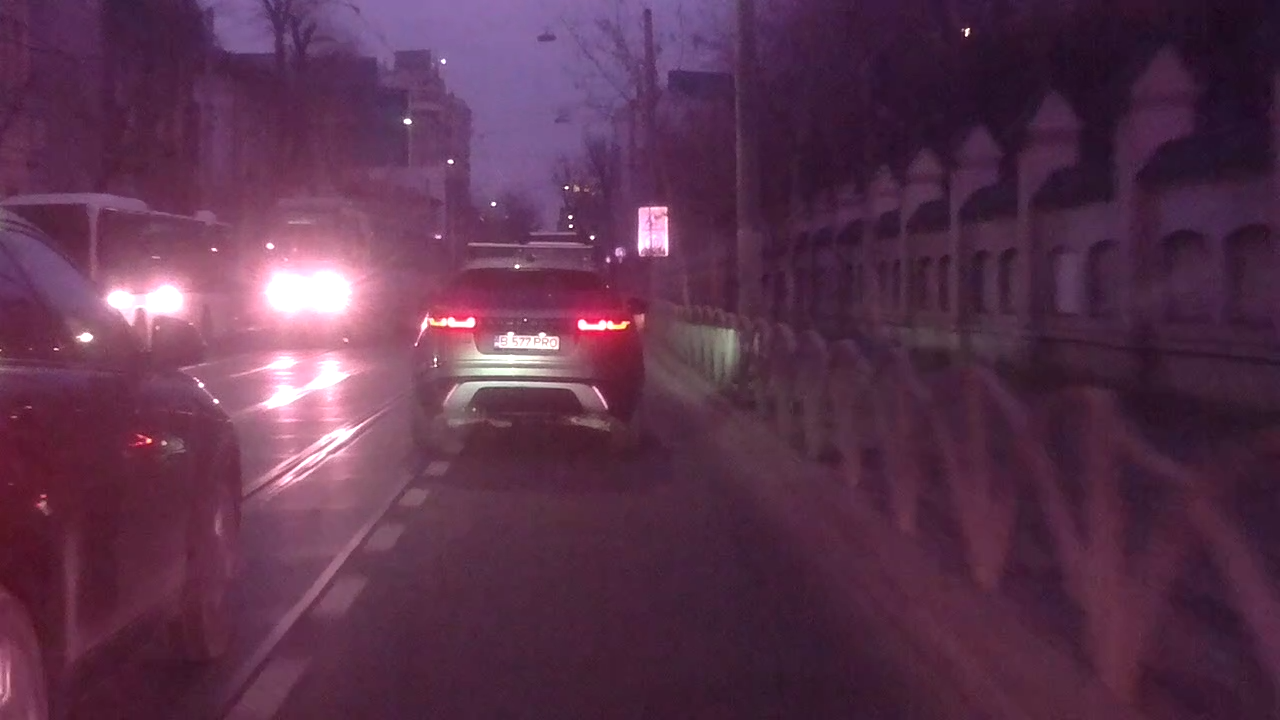license-plate: (491, 331, 562, 352)
